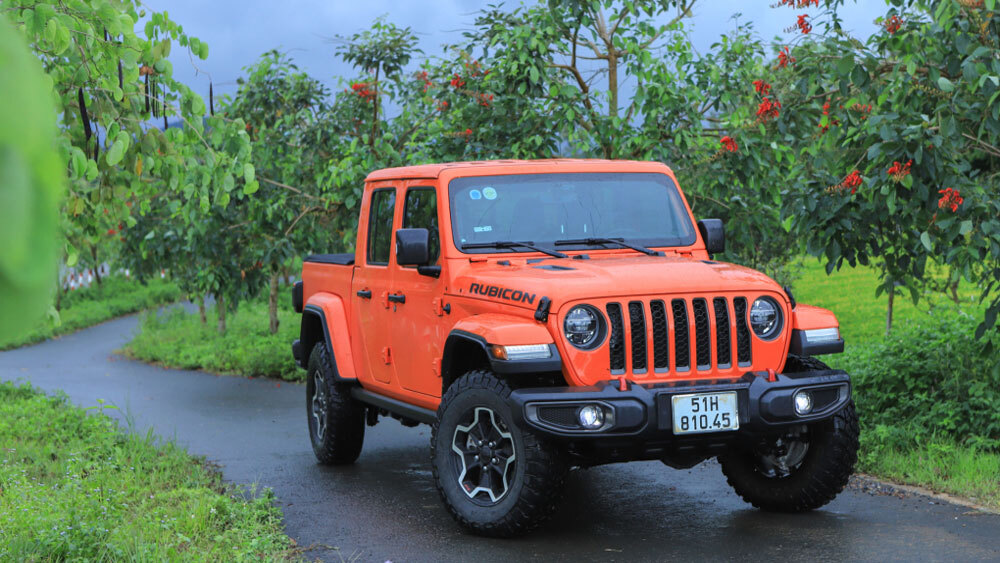number_plate: (668, 389, 749, 436)
